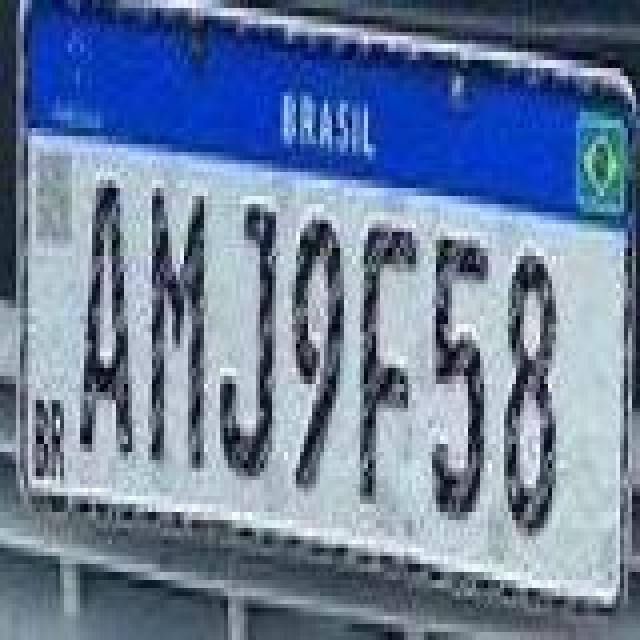5: (432, 230, 488, 522)
8: (500, 246, 556, 538)
9: (292, 206, 348, 498)
A: (76, 170, 132, 462)
F: (358, 214, 418, 506)
J: (218, 202, 278, 486)
M: (146, 182, 206, 474)
